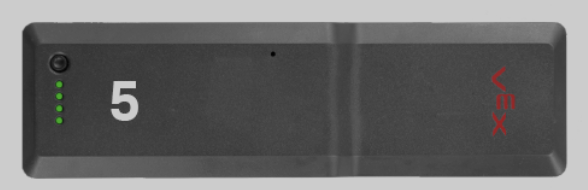Battery4: (53, 78, 68, 129)
